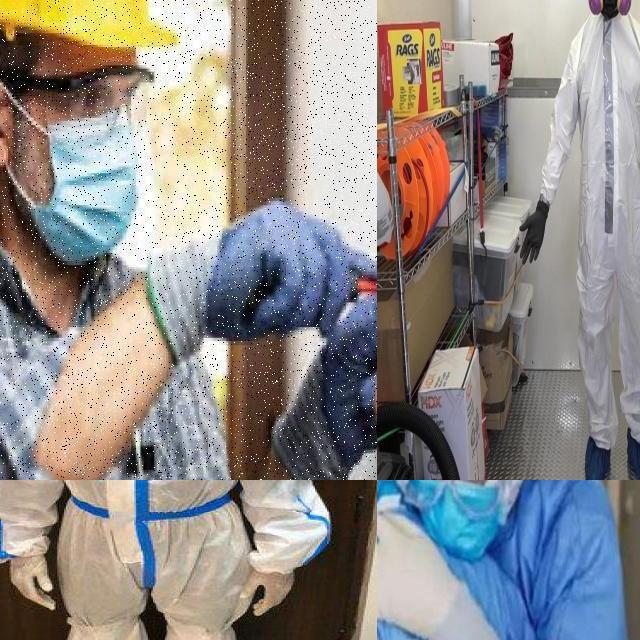GLASS: (4, 55, 155, 135)
GLOVE: (182, 187, 377, 334), (270, 283, 377, 480), (519, 196, 551, 268)
Glove: (377, 480, 462, 640), (8, 554, 61, 613), (242, 567, 290, 617)
HELMET: (0, 0, 174, 59)
MASK: (395, 480, 510, 548)
